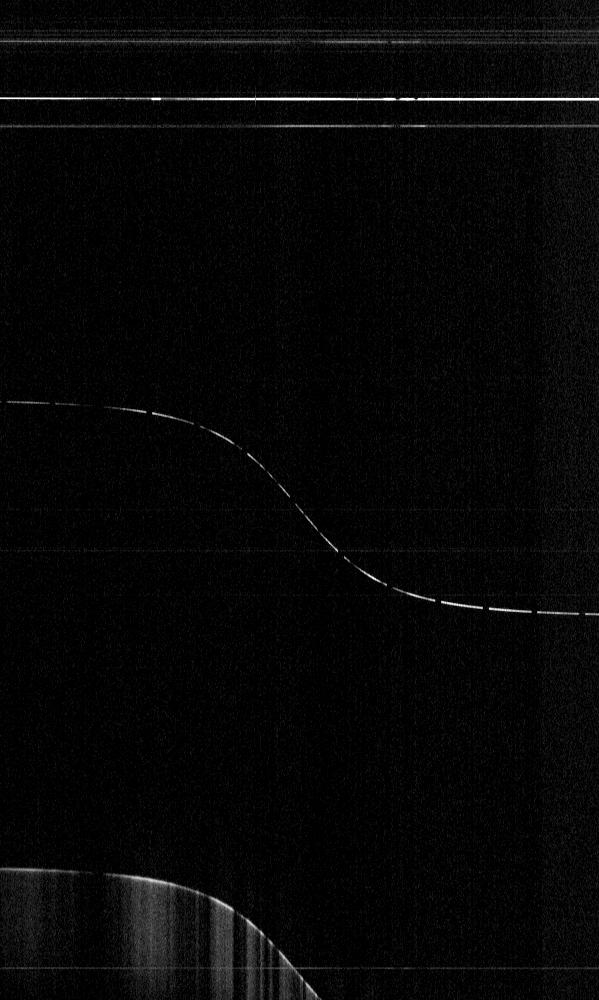signal: (0, 0, 598, 999)
